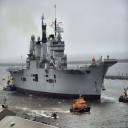Portanaves: (8, 2, 119, 104)
